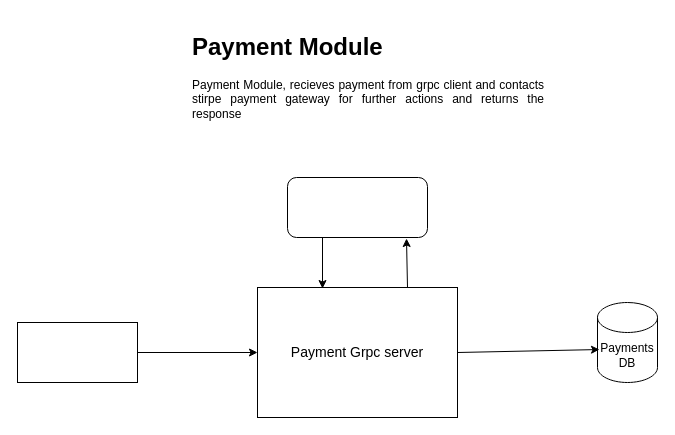
Image size: 675x435. Some labels were removed from this diagram. Each missing label, with the centre of its shape:
"Grpc Client" belongs at [77,352].
"Stripe Payment Gateway" belongs at [357,207].
